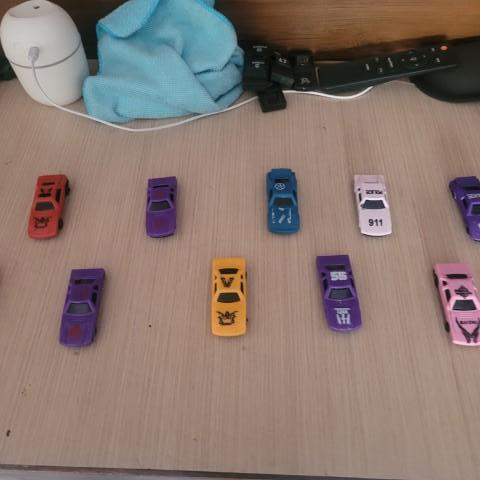car: (58, 267, 111, 350), (431, 260, 480, 349), (207, 253, 256, 341), (316, 251, 364, 337), (21, 174, 77, 244), (352, 172, 397, 239), (262, 165, 302, 238), (143, 172, 183, 242)
